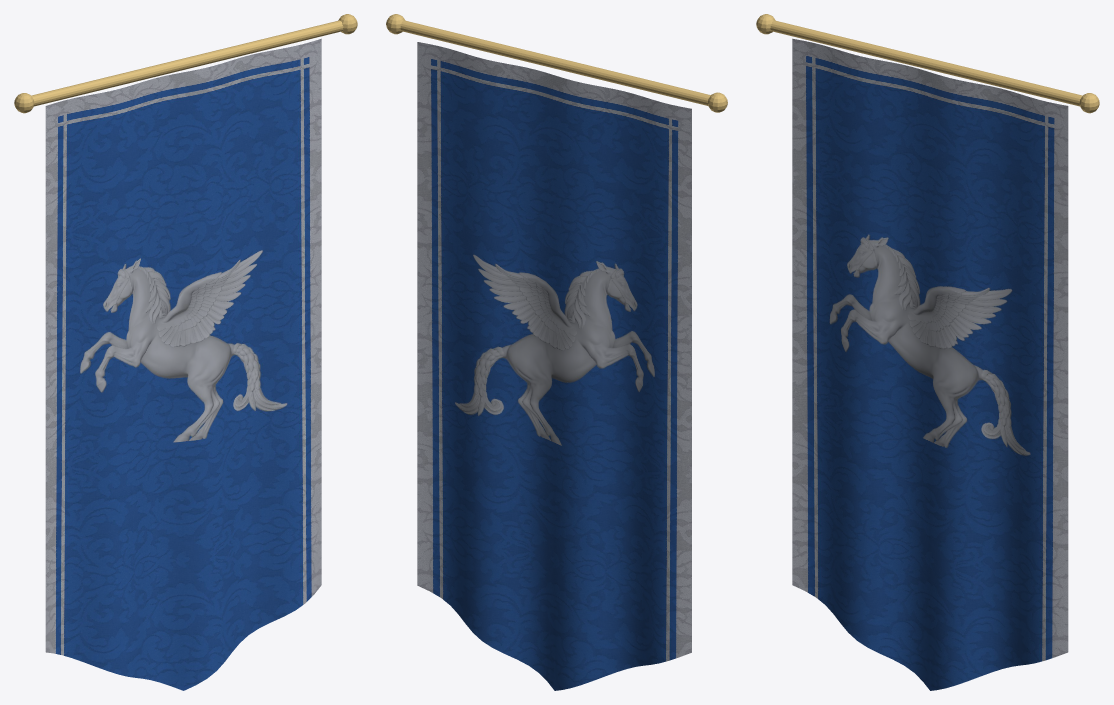
Rendered from banner_h4.glb.
The picture shows the model from 3 angles, left to right: view 1: azimuth 30°, elevation 25°; view 2: azimuth 150°, elevation 25°; view 3: azimuth 330°, elevation 25°; orthographic projection.
Visible parts, largest first — view 1: banner_h4; view 2: banner_h4; view 3: banner_h4.
Part boxes in pixels (left/top/right/bottom): banner_h4: left=14, top=14, right=357, bottom=690; banner_h4: left=386, top=14, right=727, bottom=690; banner_h4: left=756, top=14, right=1099, bottom=690.
Size of the model in its own units: 1.73 by 3.1 by 0.1.
2 materials, 1 textured.
